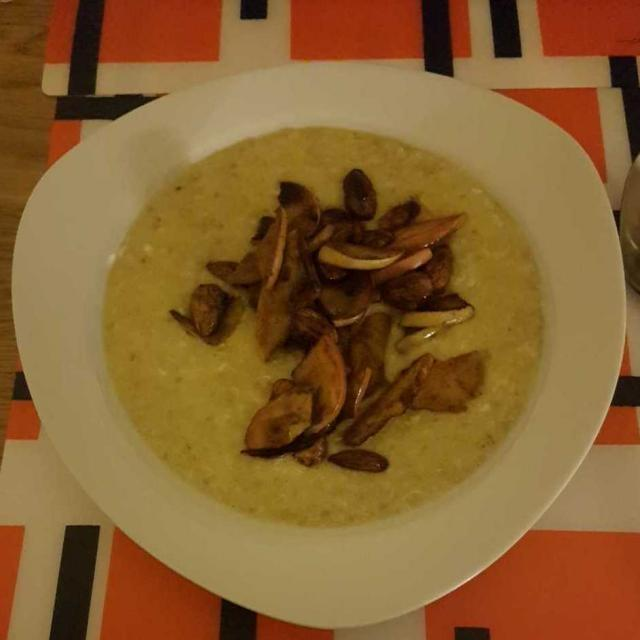oats: (114, 144, 539, 518)
